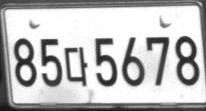5: (94, 37, 118, 87), (40, 38, 63, 86)
6: (121, 37, 146, 87)
7: (146, 36, 169, 87)
8: (174, 34, 200, 86), (13, 37, 37, 88)
다: (64, 46, 88, 87)
